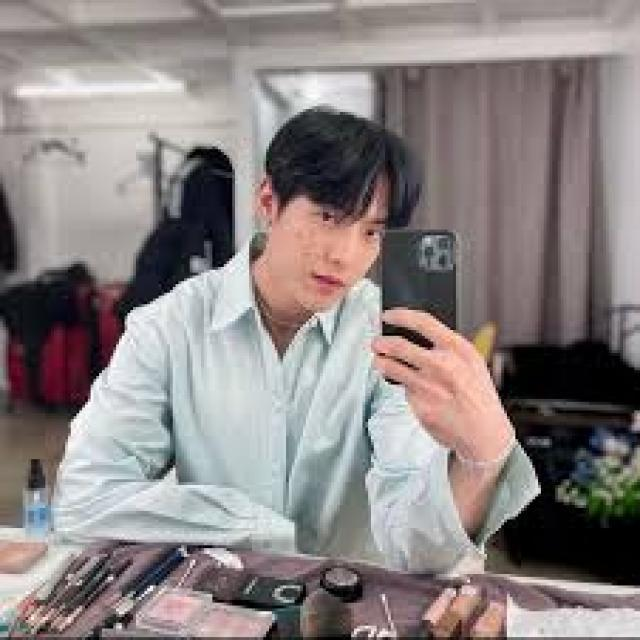Phone: (376, 226, 458, 384)
